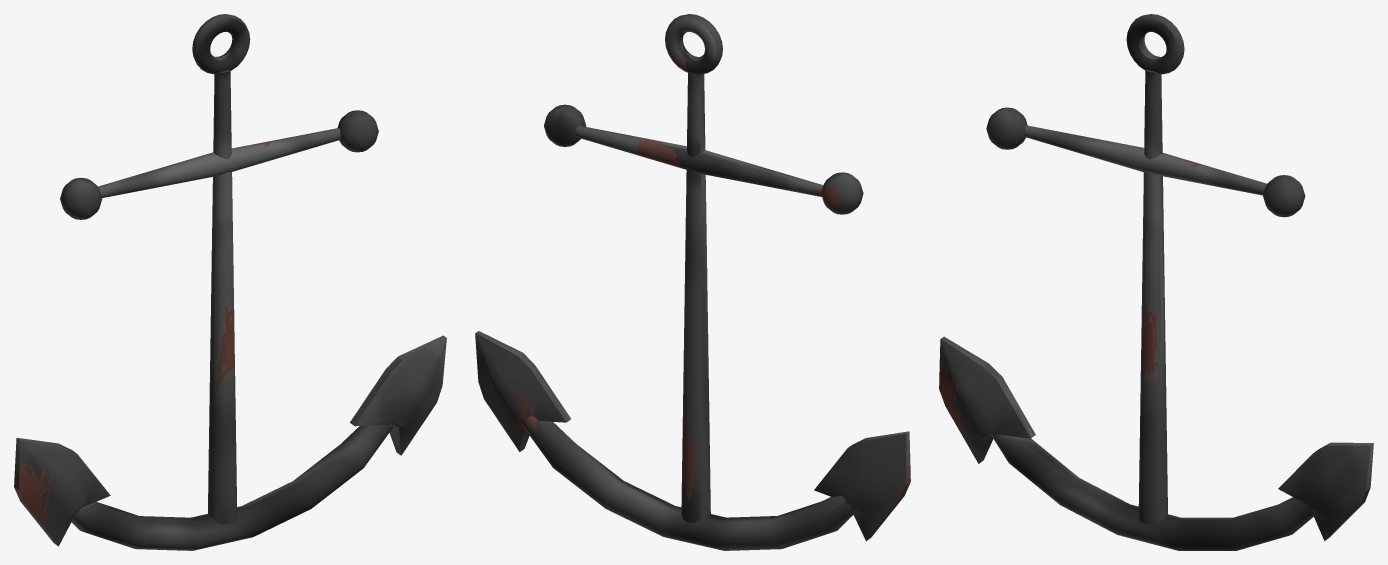
File: anchor.fbx
The picture shows the model from 3 angles, left to right: view 1: azimuth 30°, elevation 25°; view 2: azimuth 150°, elevation 25°; view 3: azimuth 330°, elevation 25°; orthographic projection.
Parts seen in each view (by area): view 1: Box009; view 2: Box009; view 3: Box009.
Boxes of the visible parts, x1=… form: Box009: x1=14, y1=14, x2=446, y2=550; Box009: x1=475, y1=14, x2=910, y2=550; Box009: x1=939, y1=14, x2=1373, y2=550.
Size of the model in its own units: 286 by 335 by 25.39.
